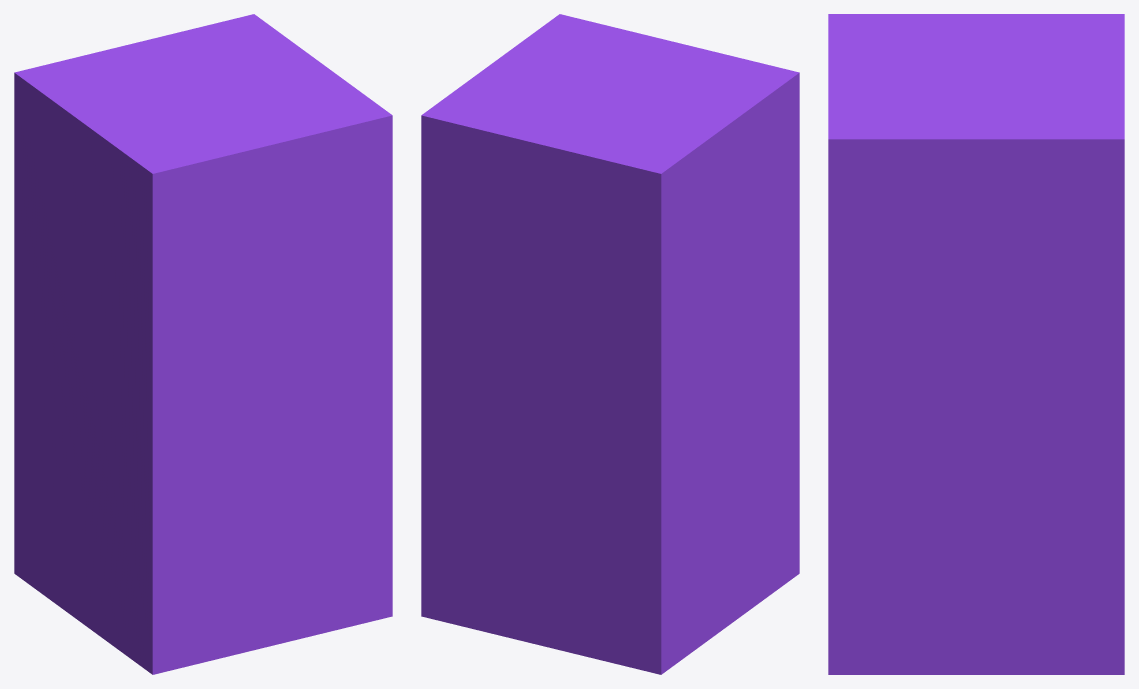
Rendered from MagentaThinEdge.fbx.
The picture shows the model from 3 angles, left to right: view 1: azimuth 30°, elevation 25°; view 2: azimuth 150°, elevation 25°; view 3: azimuth 270°, elevation 25°; orthographic projection. The views are drawn at different scales.
Visible parts, largest first — view 1: 4.BODY.green.004; view 2: 4.BODY.green.004; view 3: 4.BODY.green.004.
Part boxes in pixels (bbox=[...]): 4.BODY.green.004: bbox=[14, 14, 392, 674]; 4.BODY.green.004: bbox=[421, 14, 799, 674]; 4.BODY.green.004: bbox=[828, 14, 1124, 674].
Bounding box in the file's own units: 100 × 201 × 101.
